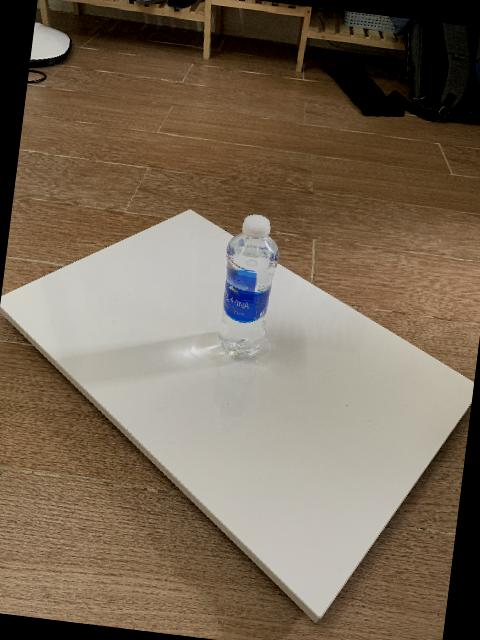aquafina: (218, 214, 279, 357)
